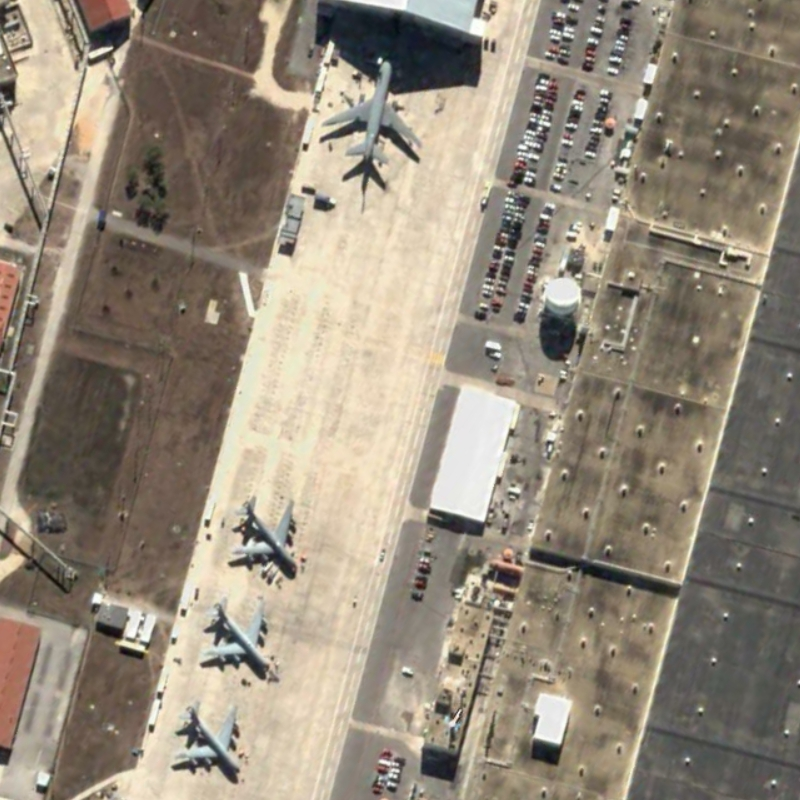A14: (193, 588, 287, 684), (223, 484, 310, 582), (165, 695, 260, 784)
A18: (313, 50, 426, 176)
